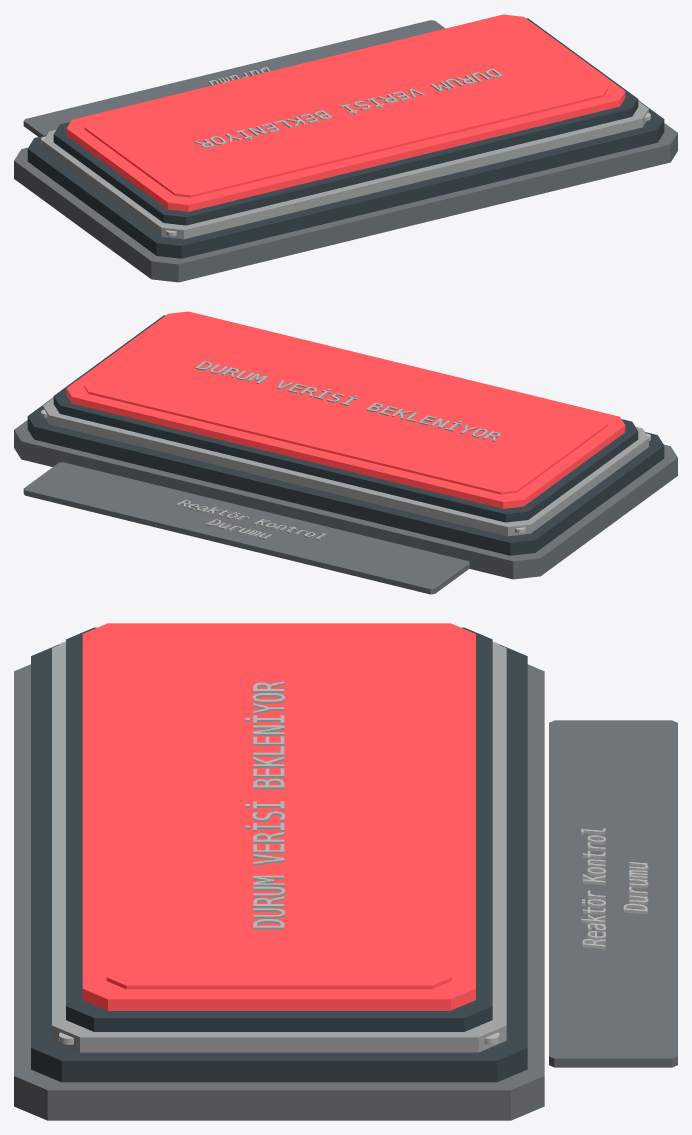
File: REAKTOR_KONTROL_DURUMU_10_ADAY.glb
3 views of the same model, one above another, from view 1: azimuth 30°, elevation 25°; view 2: azimuth 150°, elevation 25°; view 3: azimuth 270°, elevation 25° (orthographic). The views are drawn at different scales.
Parts seen in each view (by area): view 1: Dynamic_screen_face, Outer_chassis, Outer_rim, Status_screen_dark_red, Screen_gasket, Screen_bezel, Caption_plate, EXAMPLE_STATUS_TEXT_REPLACE_AT_RUNTIME; view 2: Dynamic_screen_face, Caption_plate, Outer_chassis, Outer_rim, Status_screen_dark_red, Screen_gasket, Screen_bezel, EXAMPLE_STATUS_TEXT_REPLACE_AT_RUNTIME, Control_status_reference_caption; view 3: Dynamic_screen_face, Caption_plate, Outer_chassis, Outer_rim, Status_screen_dark_red, Screen_gasket, Screen_bezel, EXAMPLE_STATUS_TEXT_REPLACE_AT_RUNTIME, Control_status_reference_caption.
Part boxes in pixels (x1,y1,x2,y2): Dynamic_screen_face: (84, 19, 607, 197); Outer_chassis: (14, 123, 677, 282); Outer_rim: (27, 100, 664, 258); Status_screen_dark_red: (66, 14, 625, 211); Screen_gasket: (53, 18, 638, 225); Screen_bezel: (43, 101, 648, 239); Caption_plate: (23, 20, 445, 136); EXAMPLE_STATUS_TEXT_REPLACE_AT_RUNTIME: (194, 68, 502, 148); Dynamic_screen_face: (84, 316, 607, 494); Caption_plate: (23, 462, 469, 594); Outer_chassis: (14, 420, 677, 579); Outer_rim: (27, 397, 664, 555); Status_screen_dark_red: (66, 311, 625, 508); Screen_gasket: (53, 315, 638, 522); Screen_bezel: (43, 398, 648, 536); EXAMPLE_STATUS_TEXT_REPLACE_AT_RUNTIME: (195, 361, 500, 441); Control_status_reference_caption: (176, 500, 326, 540); Dynamic_screen_face: (106, 629, 451, 989); Caption_plate: (549, 720, 677, 1067); Outer_chassis: (14, 664, 544, 1120); Outer_rim: (31, 644, 527, 1082); Status_screen_dark_red: (82, 623, 475, 1010); Screen_gasket: (66, 627, 492, 1031); Screen_bezel: (52, 642, 506, 1052); EXAMPLE_STATUS_TEXT_REPLACE_AT_RUNTIME: (245, 681, 284, 929); Control_status_reference_caption: (581, 828, 648, 949).
Size of the model in its own units: 3.65 by 0.39 by 2.36.
